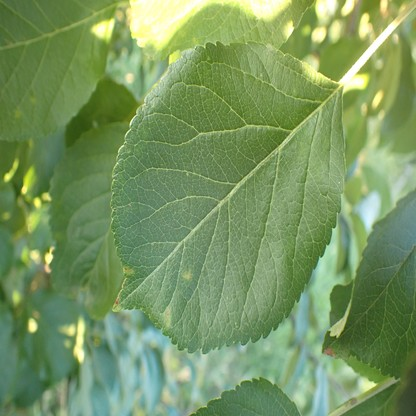frogeye_leaf_spot: (323, 347, 333, 357)
scab: (164, 307, 170, 326), (184, 268, 192, 281), (124, 267, 136, 274)
